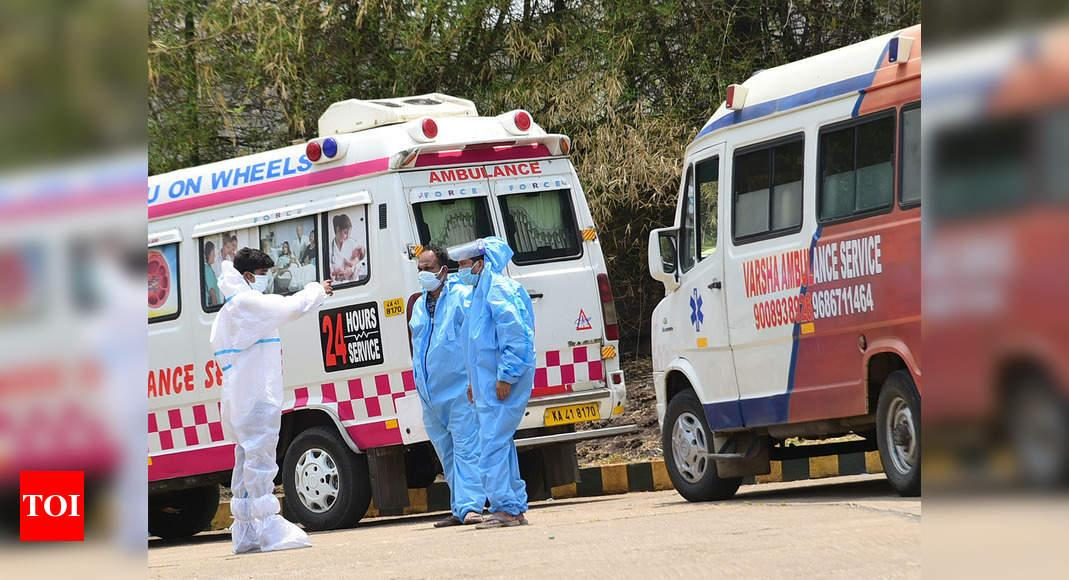ER: (148, 90, 628, 542), (649, 23, 922, 503)
